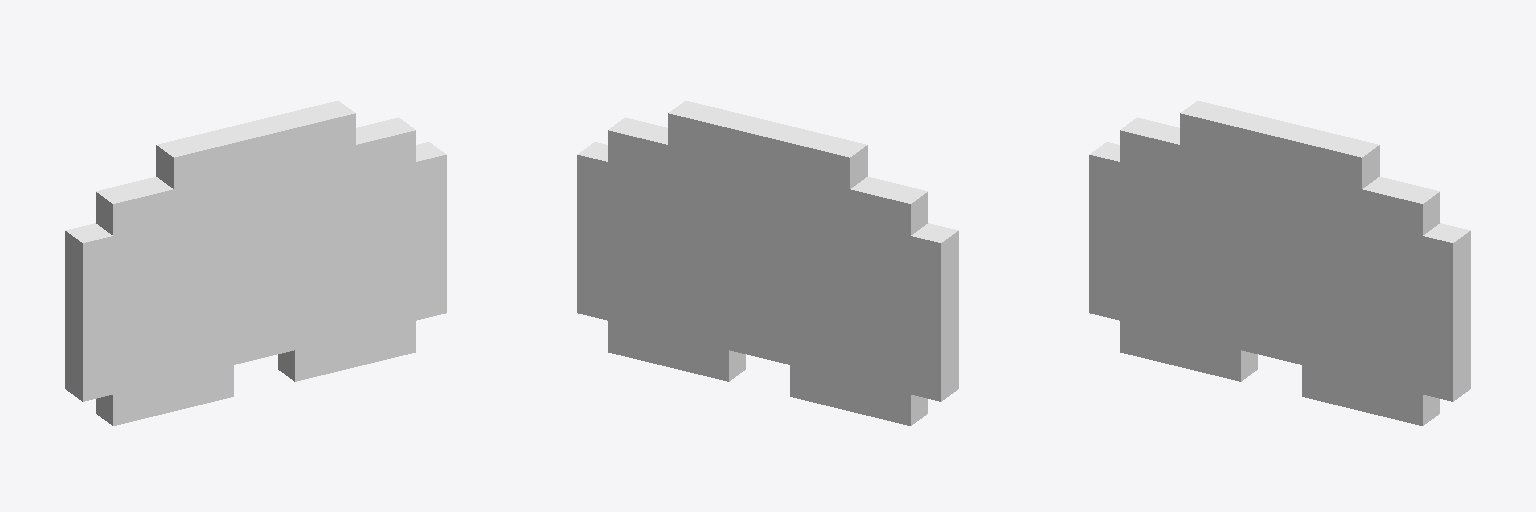
Rendered from PookaGhost2Cardinal.obj.
3 views of the same model, side by side, from view 1: azimuth 30°, elevation 25°; view 2: azimuth 150°, elevation 25°; view 3: azimuth 330°, elevation 25° (orthographic).
Visible parts, largest first — view 1: PookaGhost2; view 2: PookaGhost2; view 3: PookaGhost2.
Part boxes in pixels (left/top/right/bottom): PookaGhost2: left=65, top=101, right=446, bottom=425; PookaGhost2: left=577, top=101, right=958, bottom=425; PookaGhost2: left=1089, top=101, right=1470, bottom=425.
Bounding box in the file's own units: 1.2 × 0.8 × 0.1.